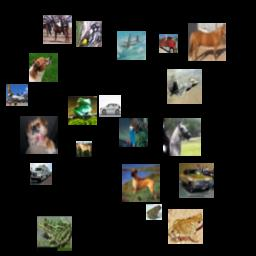airplane: (167, 69, 202, 104), (117, 31, 146, 60), (6, 84, 28, 106)
automobile: (179, 163, 214, 198), (99, 95, 121, 117)
bird: (119, 118, 148, 147), (76, 21, 102, 47)
dog: (122, 164, 160, 202), (20, 116, 58, 154), (29, 53, 58, 82)
frog: (37, 216, 72, 251), (168, 209, 203, 244), (68, 96, 97, 125), (146, 204, 162, 220)
truck: (30, 163, 52, 185), (159, 34, 178, 53)
